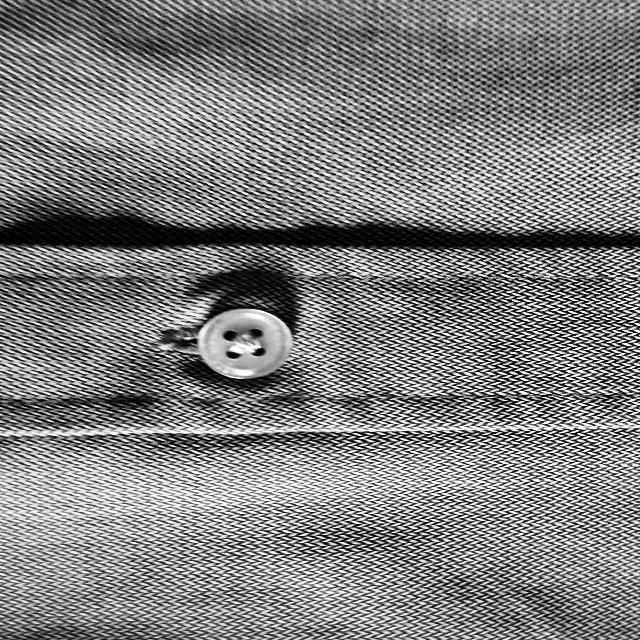Button_hike: (149, 298, 298, 389)
